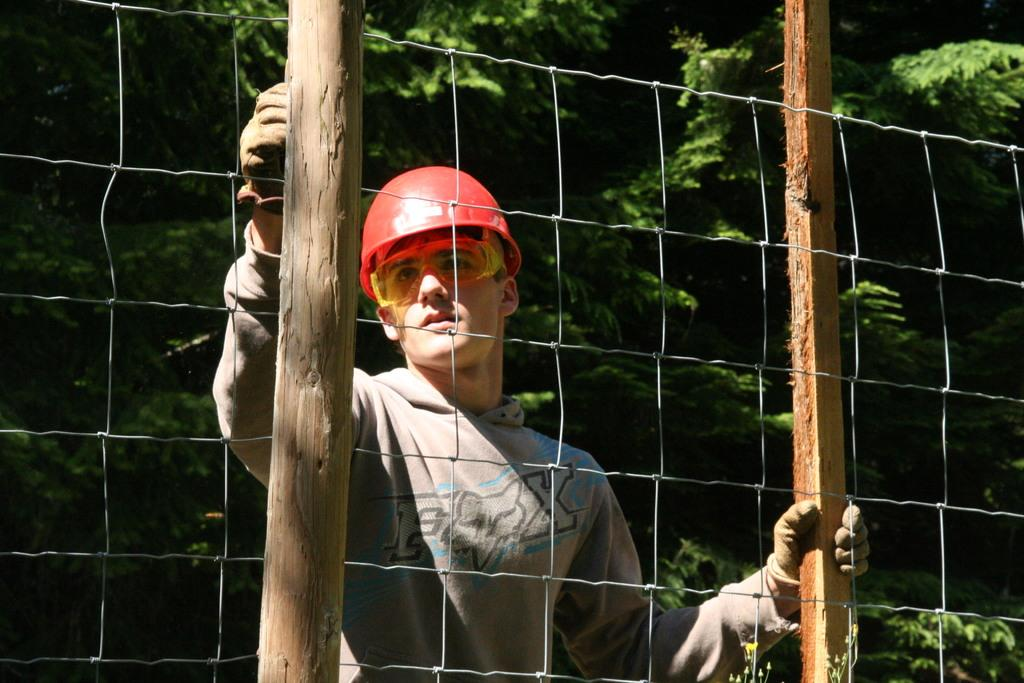helmet: (359, 165, 522, 355)
